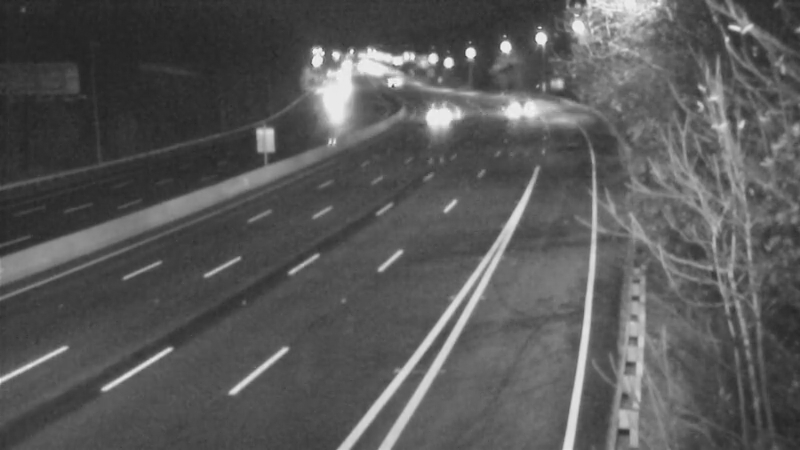vehicle: (366, 60, 416, 110), (492, 83, 542, 133), (417, 89, 467, 139), (304, 69, 354, 119)
